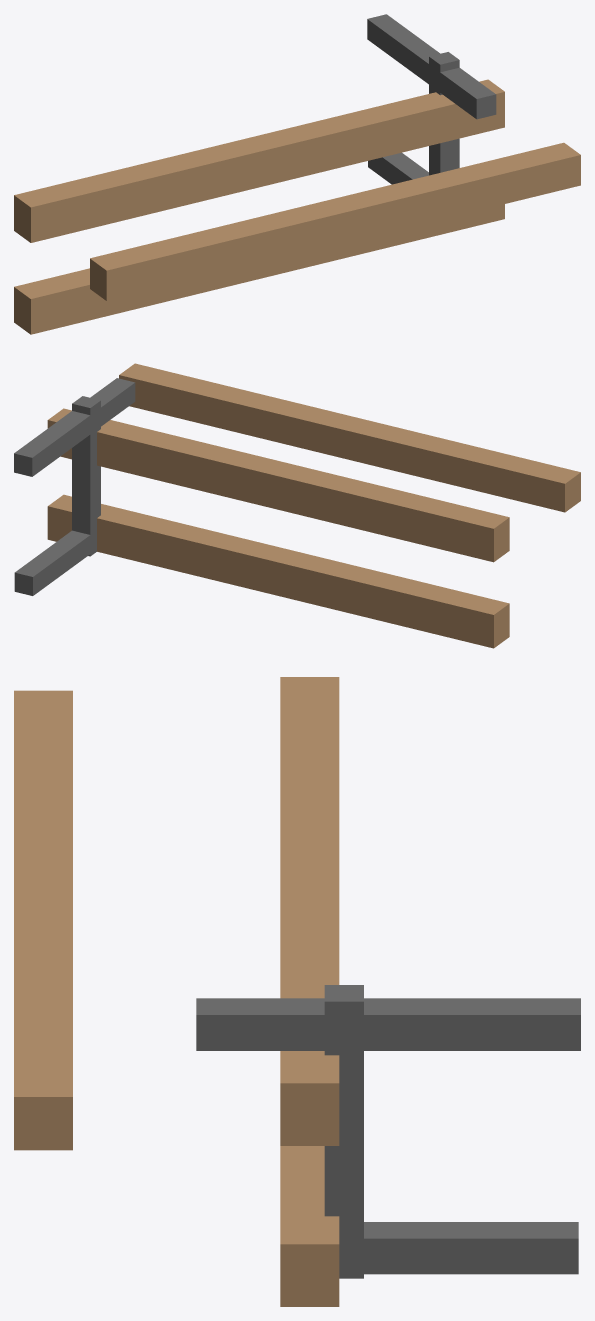
The model's file is street_bench.glb.
The picture shows the model from 3 angles, top to bottom: view 1: azimuth 30°, elevation 25°; view 2: azimuth 150°, elevation 25°; view 3: azimuth 270°, elevation 25°; orthographic projection. The views are drawn at different scales.
Parts seen in each view (by area): view 1: bench_seat_back, bench_wood_slats, bench_seat_front, bench_leg_back, bench_side_support, bench_leg_front; view 2: bench_seat_front, bench_seat_back, bench_wood_slats, bench_leg_back, bench_side_support, bench_leg_front; view 3: bench_wood_slats, bench_seat_back, bench_leg_back, bench_leg_front, bench_seat_front, bench_side_support.
Part boxes in pixels (x1=…): bench_seat_back: x1=14, y1=79, x2=504, y2=242; bench_wood_slats: x1=90, y1=142, x2=580, y2=300; bench_seat_front: x1=14, y1=204, x2=504, y2=334; bench_leg_back: x1=367, y1=14, x2=496, y2=119; bench_side_support: x1=429, y1=52, x2=459, y2=175; bench_leg_front: x1=368, y1=152, x2=428, y2=184; bench_seat_front: x1=47, y1=494, x2=509, y2=648; bench_seat_back: x1=47, y1=408, x2=509, y2=562; bench_wood_slats: x1=119, y1=363, x2=580, y2=512; bench_leg_back: x1=14, y1=378, x2=135, y2=476; bench_side_support: x1=72, y1=396, x2=100, y2=556; bench_leg_front: x1=14, y1=530, x2=96, y2=595; bench_wood_slats: x1=14, y1=690, x2=72, y2=1150; bench_seat_back: x1=280, y1=677, x2=339, y2=1145; bench_leg_back: x1=196, y1=998, x2=580, y2=1050; bench_leg_front: x1=339, y1=1222, x2=578, y2=1274; bench_seat_front: x1=280, y1=1146, x2=339, y2=1306; bench_side_support: x1=324, y1=985, x2=363, y2=1278.
Bounding box in the file's own units: 1.95 × 0.62 × 1.15.
